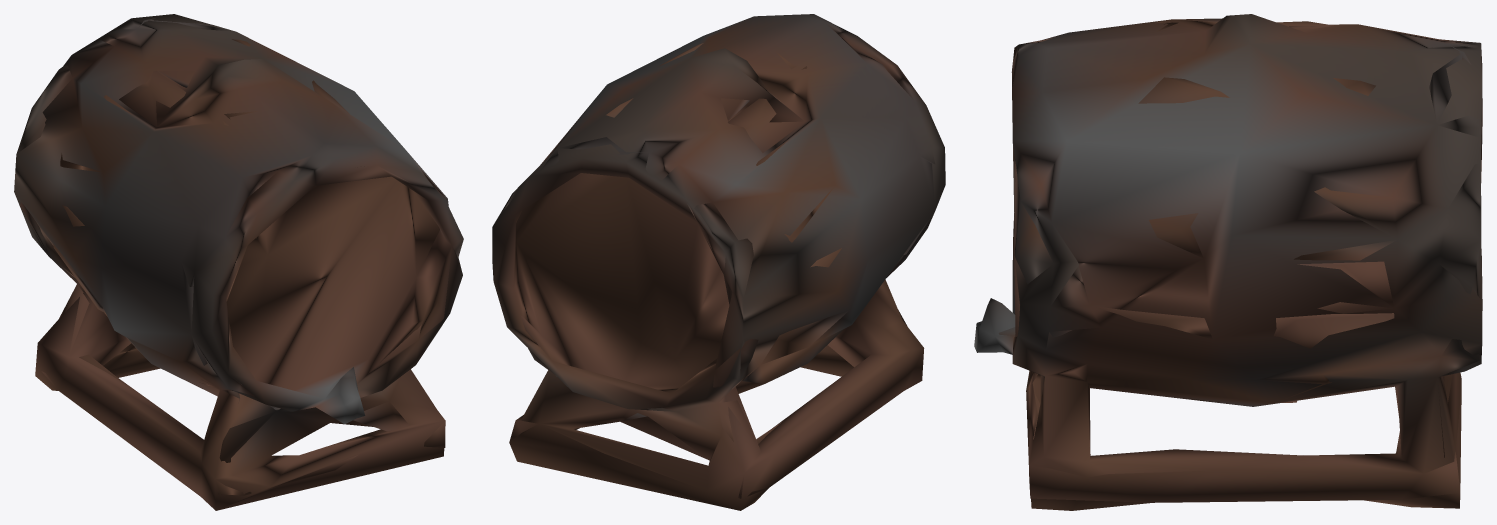
File: gen3d-wine-barrel-lod1.glb
3 views of the same model, side by side, from view 1: azimuth 30°, elevation 25°; view 2: azimuth 150°, elevation 25°; view 3: azimuth 270°, elevation 25° (orthographic). The views are drawn at different scales.
Parts seen in each view (by area): view 1: part_0; view 2: part_0; view 3: part_0.
Boxes of the visible parts, box(x1,y1,x2,y2) form: part_0: box(14, 14, 463, 510); part_0: box(492, 14, 945, 510); part_0: box(974, 14, 1482, 510).
Bounding box in the file's own units: 0.8139 × 0.9983 × 1.07.
